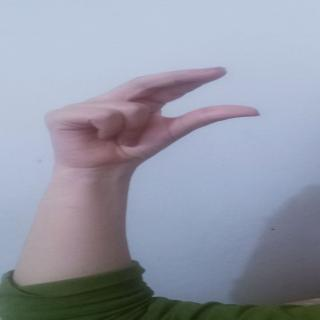DHELL: (39, 60, 265, 167)
